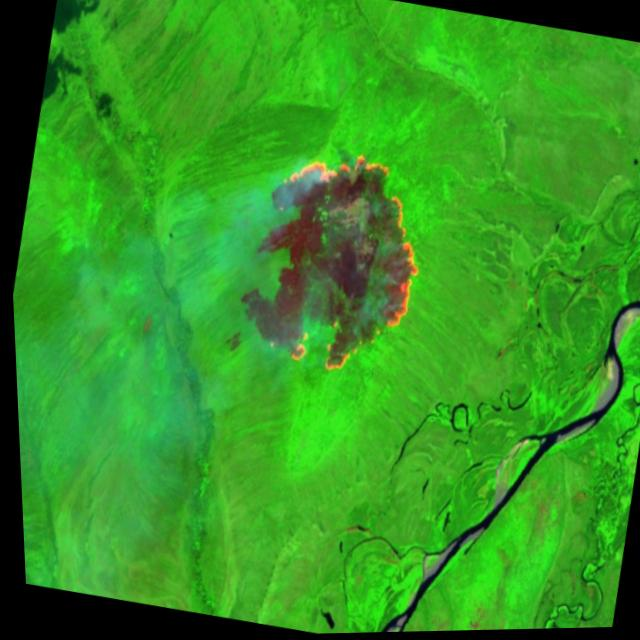fire: (236, 131, 443, 393)
